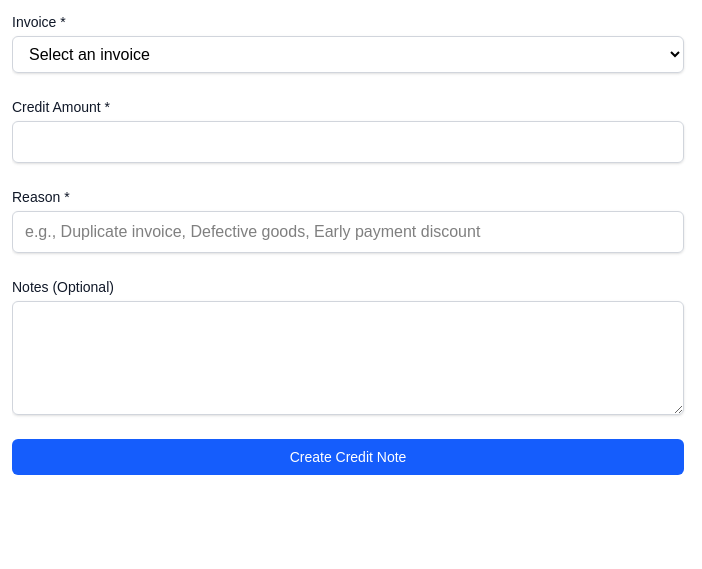
Test case: CreateCreditNoteForm › refuses a zero amount
Select "INV-0001 - Due: 300.00 AUD" in the dropdown labelled "Invoice *": (348, 54) [12,36,684,73]
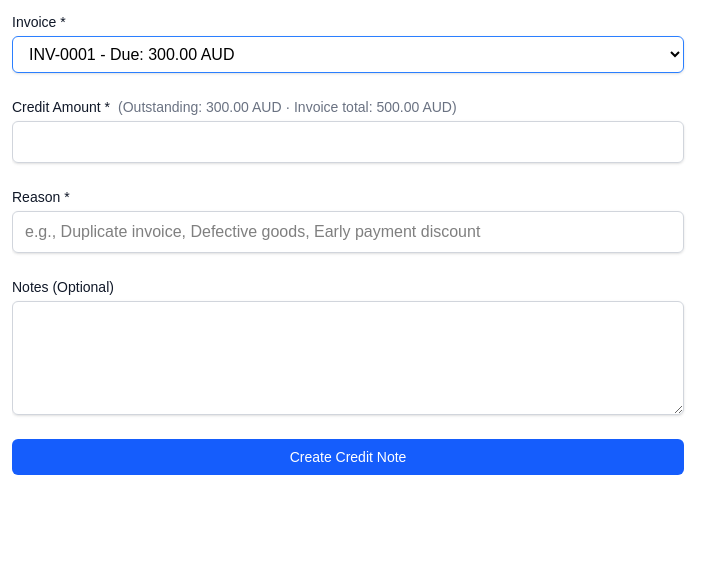
In the number field labelled "Credit Amount": (348, 142) [12,121,684,163], type "0"
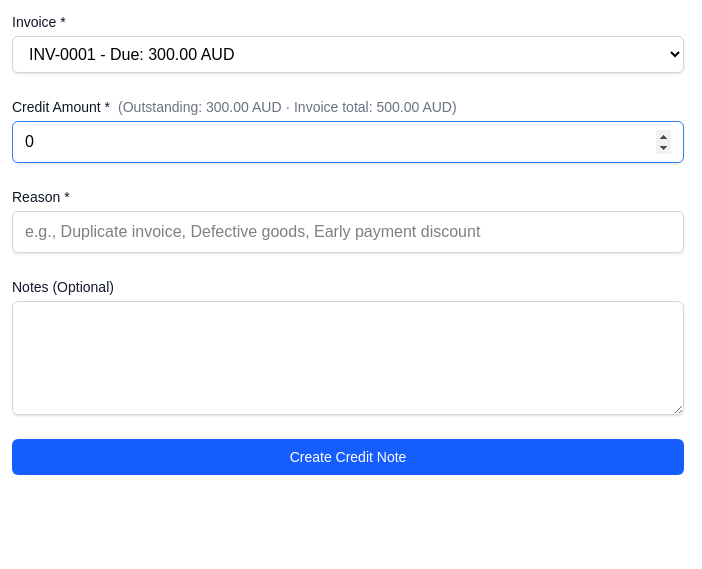
In the field labelled "Reason *": (348, 232) [12,211,684,253], type "Returned goods"
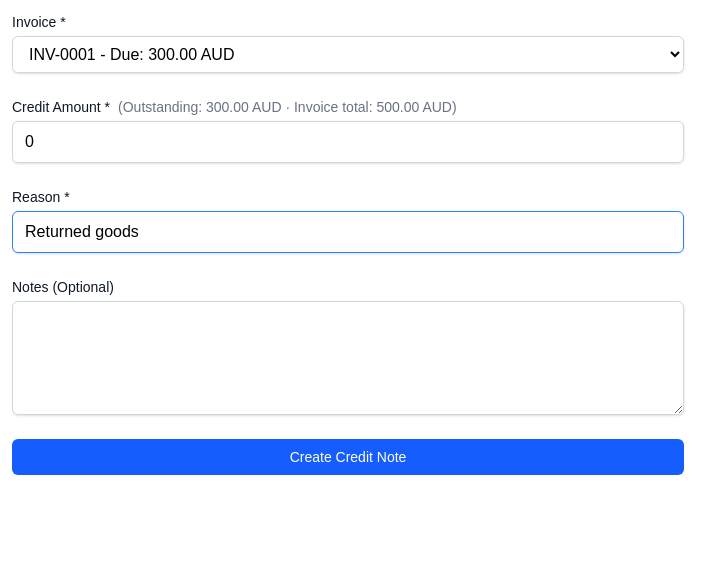
Click the button "Create Credit Note": (348, 457) [12,439,684,475]
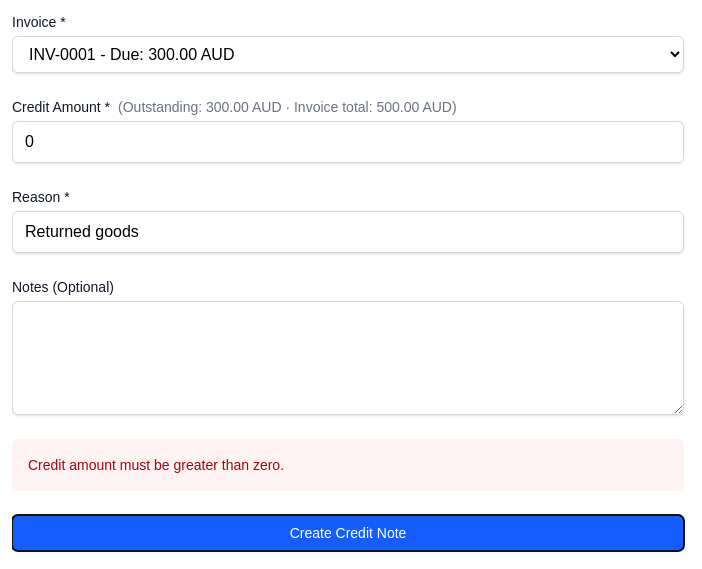
Now the text "Credit amount must be greater than zero." is shown, box [12,439,684,491]
